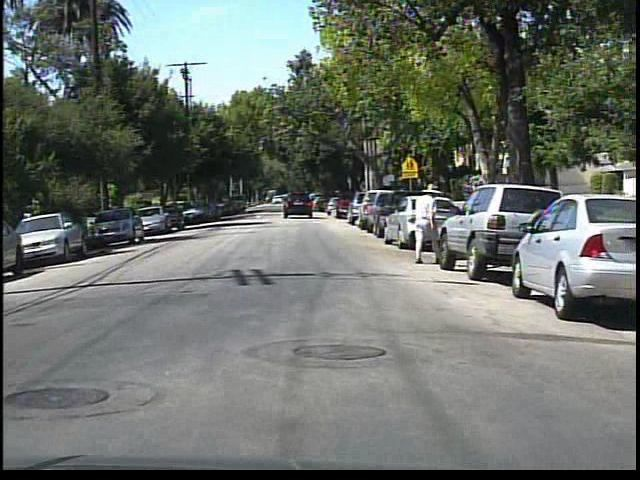person: (405, 182, 448, 268)
